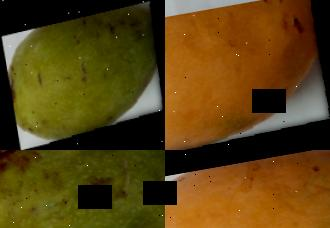Ripe: (165, 0, 330, 150), (165, 150, 330, 228)
Unripe: (0, 0, 165, 150), (0, 150, 165, 228)
